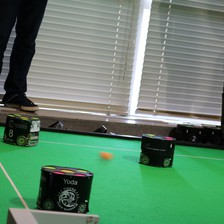ball: (99, 148, 112, 162)
robot: (33, 161, 96, 215), (136, 131, 177, 169), (1, 112, 42, 149), (175, 121, 203, 145), (202, 123, 224, 147)
